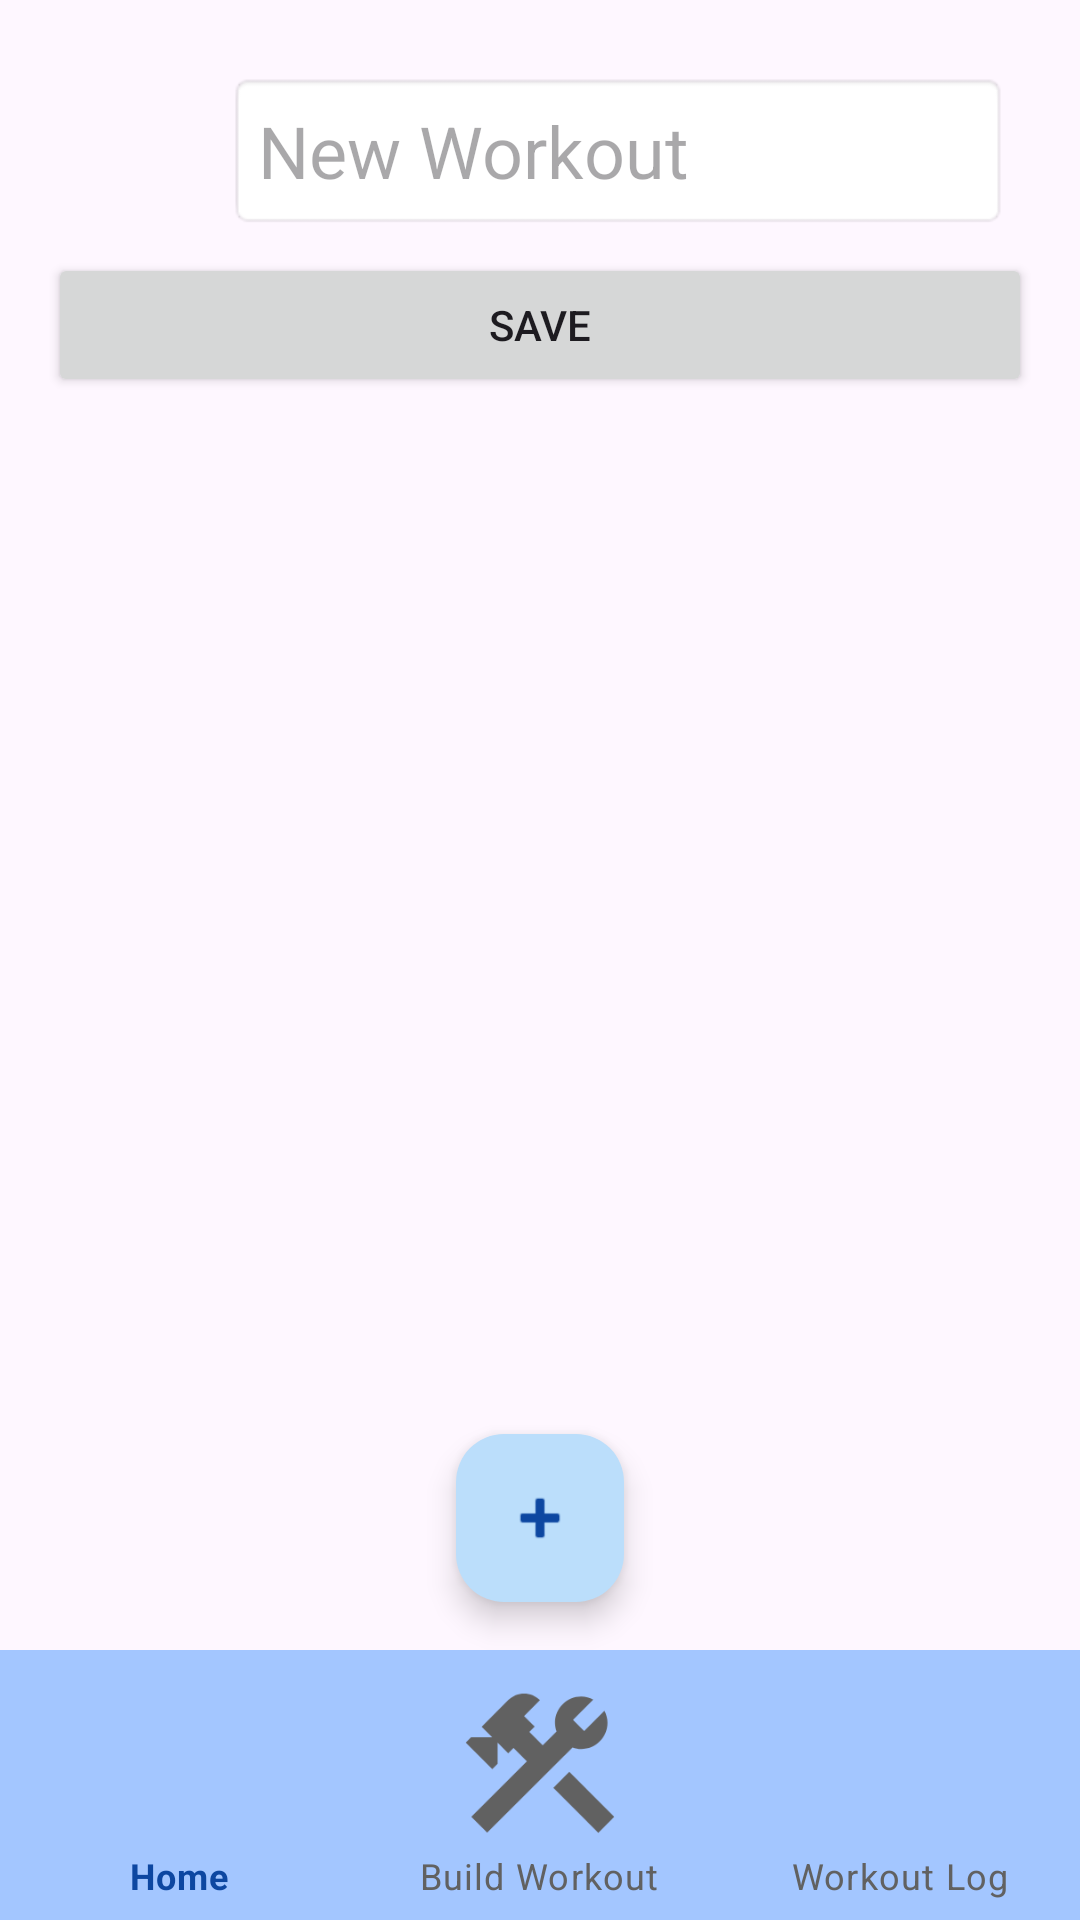

Screen size 1080 × 1920. Icon name, then its center in pixels as point (x, y):
Add Workout Item: point (540, 1518)
